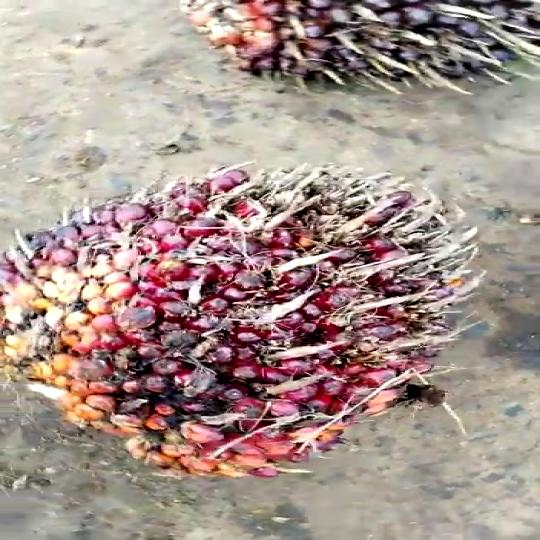masak: (0, 133, 468, 483)
